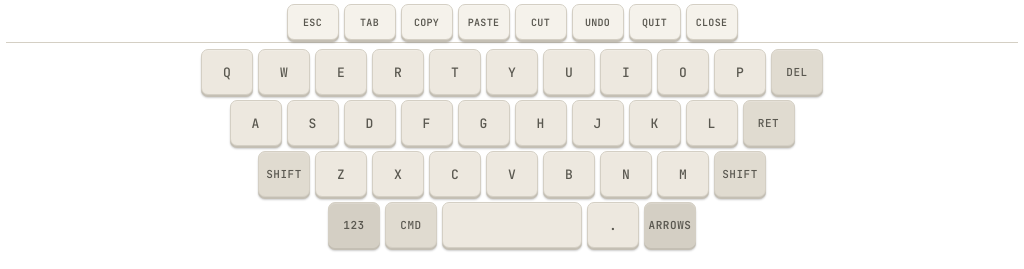
Test: VirtualKeyboard › mode switching › should switch to symbols mode when #+ is pressed
# Go to number mode first
Press the mouse on the button "123" at (354, 225), box [328,202,380,248]
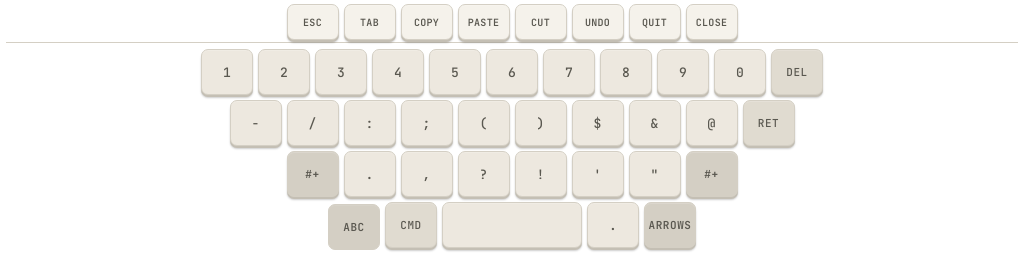
# Go to symbols mode
Press the mouse on the 1st button "#+" at (312, 174), box [286,151,338,197]
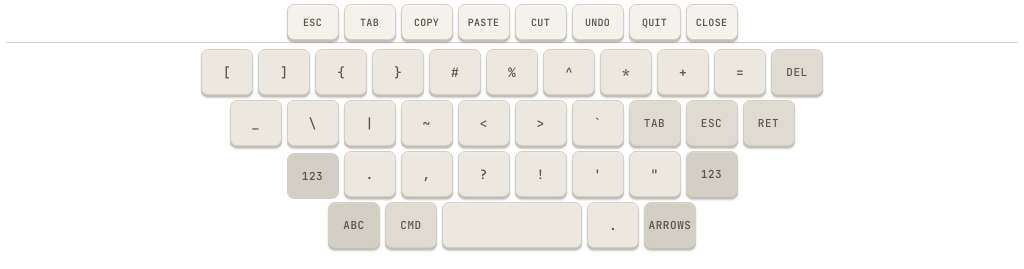
Expected: the button "[" is shown, [201,49,253,95]
Expected: the button "{" is shown, [315,49,367,95]
